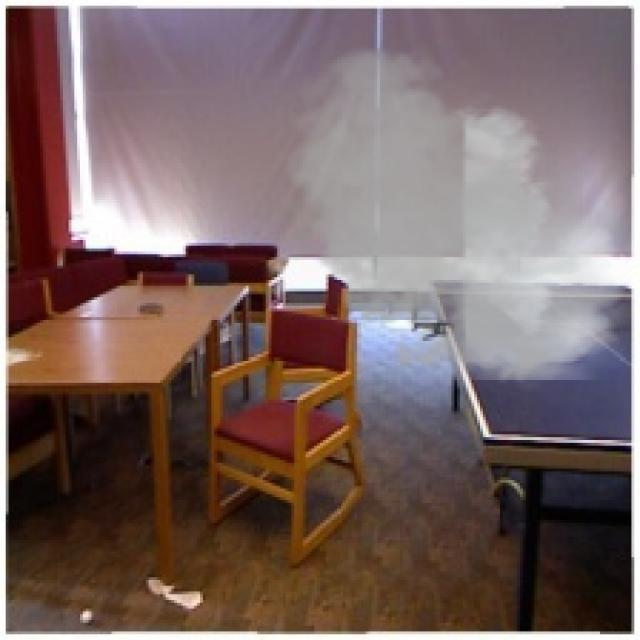Smoke: (272, 39, 637, 394)
